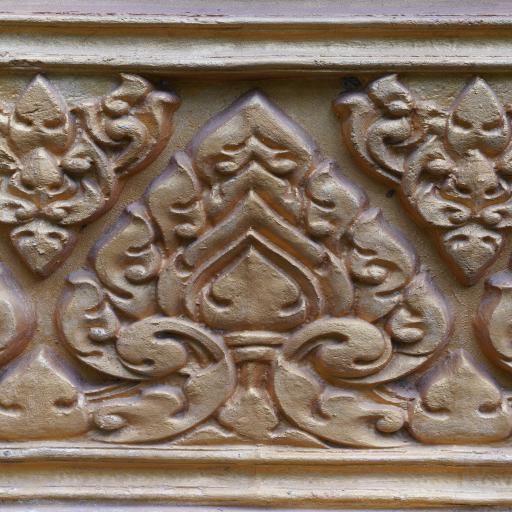lua: (23, 99, 500, 454), (333, 72, 512, 292), (0, 71, 181, 281)
